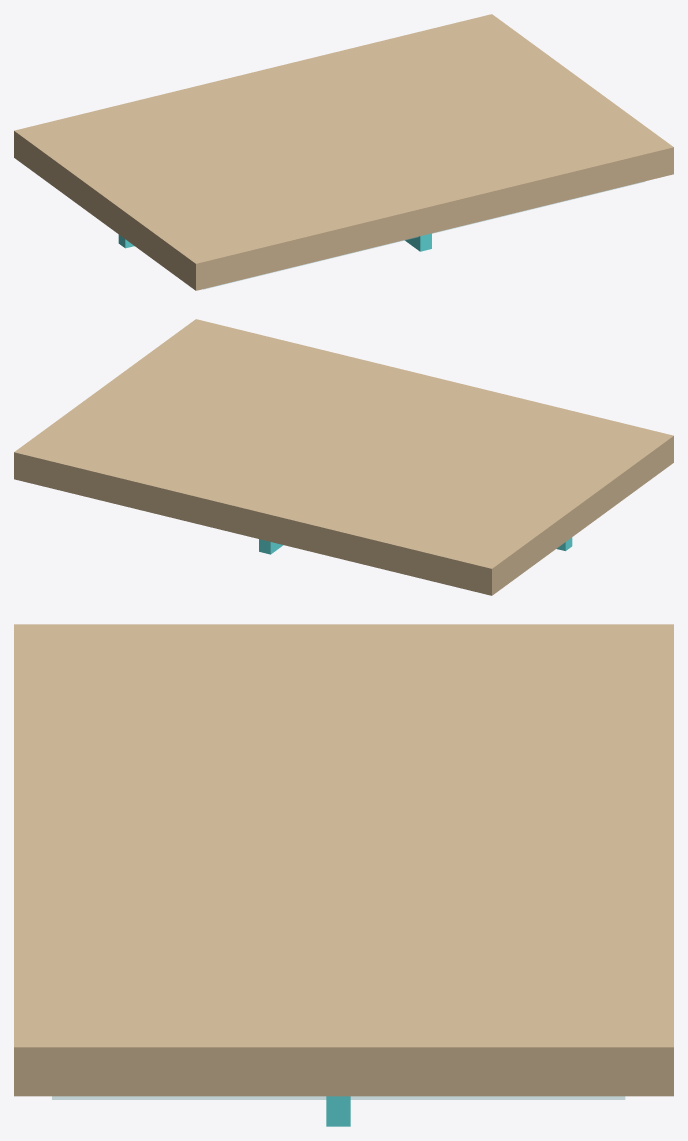
Rendered from window-wide.glb.
The picture shows the model from 3 angles, top to bottom: view 1: azimuth 30°, elevation 25°; view 2: azimuth 150°, elevation 25°; view 3: azimuth 270°, elevation 25°; orthographic projection. The views are drawn at different scales.
Parts seen in each view (by area): view 1: world; view 2: world; view 3: world.
Boxes of the visible parts, bbox=[...] form: world: bbox=[14, 14, 673, 290]; world: bbox=[14, 319, 673, 595]; world: bbox=[14, 624, 673, 1126].
Size of the model in its own units: 1.85 by 0.19 by 1.22.
